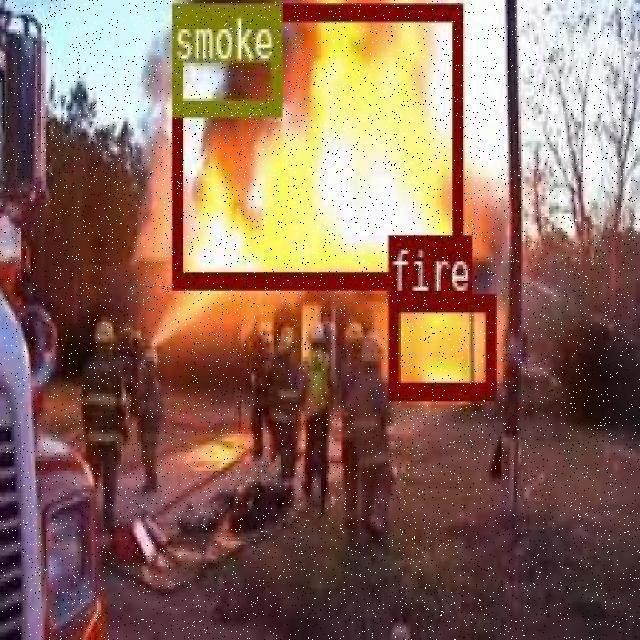Fire: (284, 22, 454, 258), (186, 124, 287, 257), (406, 316, 490, 385)
Smoke: (170, 0, 279, 114)
